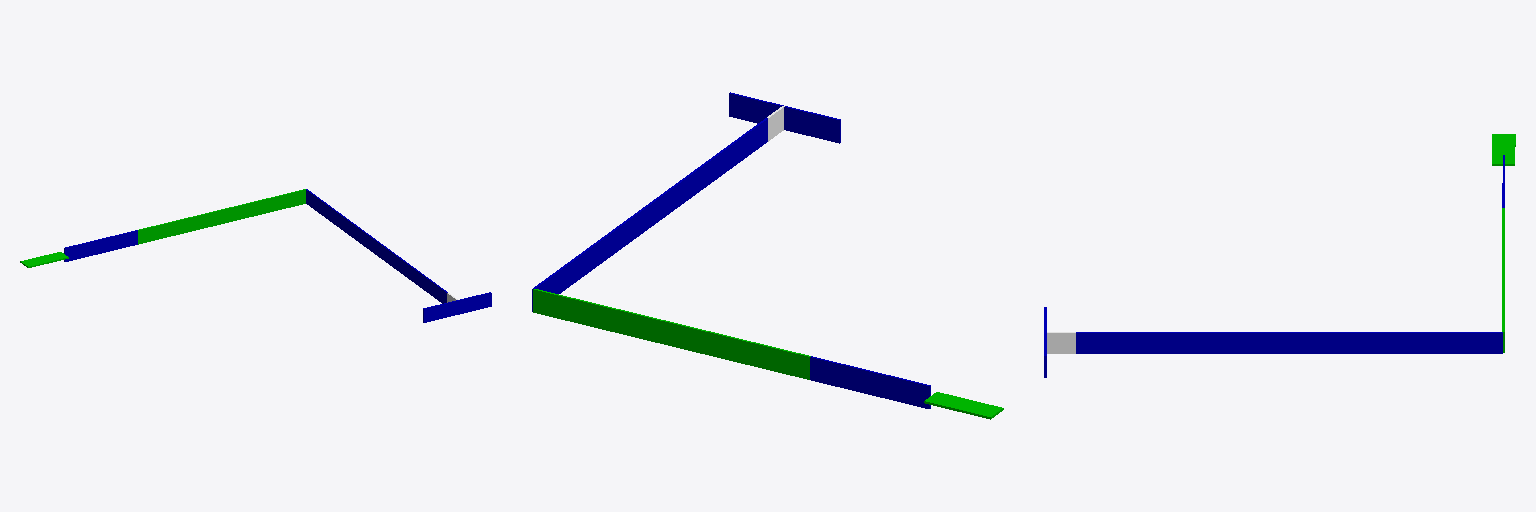
The robot description file, URDF, robot "yannic_robot":
<?xml version="1.0" ?>
<!-- =================================================================================== -->
<!-- |    This document was autogenerated by xacro from yannic_robot.urdf.xacro        | -->
<!-- |    EDITING THIS FILE BY HAND IS NOT RECOMMENDED                                 | -->
<!-- =================================================================================== -->
<robot name="yannic_robot">
  <material name="blue">
    <color rgba="0 0 0.8 1"/>
  </material>
  <material name="transparent">
    <color rgba="0 0 0 0"/>
  </material>
  <material name="green">
    <color rgba="0.0 0.8 0.0 1.0"/>
  </material>
  <material name="white">
    <color rgba="1 1 1 1"/>
  </material>
  <link name="base_link">
    <visual>
      <geometry>
        <box size="0.05 0.001  0.01"/>
      </geometry>
      <material name="blue"/>
    </visual>
    <collision>
      <geometry>
        <box size="0.05 0.001  0.01"/>
      </geometry>
    </collision>
  </link>
  <joint name="rotate_base" type="revolute">
    <axis xyz="1 0 0"/>
    <limit effort="1000.0" lower="-1.57" upper="1.57" velocity="0.5"/>
    <origin rpy="0 0 1.57" xyz="0.0005 0 0"/>
    <parent link="base_link"/>
    <child link="dummy"/>
  </joint>
  <link name="dummy">
    <visual>
      <geometry>
        <box size="0.013 0.001  0.01"/>
      </geometry>
      <material name="white"/>
      <origin rpy="0 0 0" xyz="0.0065 0 0.0"/>
    </visual>
    <collision>
      <geometry>
        <box size="0.013 0.001  0.01"/>
      </geometry>
    </collision>
    <inertial>
      <mass value="10"/>
      <inertia ixx="1.0" ixy="0.0" ixz="0.0" iyy="1.0" iyz="0.0" izz="1.0"/>
    </inertial>
  </link>
  <joint name="joint1" type="revolute">
    <axis xyz="0 0 1"/>
    <limit effort="1000.0" lower="-0.7853981633974483" upper="0.7853981633974483" velocity="0.5"/>
    <origin rpy="0 0 0" xyz="0.013 0 0"/>
    <parent link="dummy"/>
    <child link="link1"/>
  </joint>
  <link name="link1">
    <visual>
      <geometry>
        <box size="0.182 0.001  0.01"/>
      </geometry>
      <material name="blue"/>
      <origin rpy="0 0 0" xyz="0.091 0 0.0"/>
    </visual>
    <collision>
      <geometry>
        <box size="0.182 0.001  0.01"/>
      </geometry>
    </collision>
    <inertial>
      <mass value="10"/>
      <inertia ixx="1.0" ixy="0.0" ixz="0.0" iyy="1.0" iyz="0.0" izz="1.0"/>
    </inertial>
  </link>
  <joint name="joint2" type="revolute">
    <axis xyz="0 0 1"/>
    <limit effort="1000.0" lower="0.7853981633974483" upper="2.356194490192345" velocity="0.5"/>
    <origin rpy="0 0 0" xyz="0.182 0 0"/>
    <parent link="link1"/>
    <child link="link2"/>
  </joint>
  <link name="link2">
    <visual>
      <geometry>
        <box size="0.125 0.001  0.01"/>
      </geometry>
      <material name="green"/>
      <origin rpy="0 0 0" xyz="0.0625 0 0.0"/>
    </visual>
    <collision>
      <geometry>
        <box size="0.125 0.001  0.01"/>
      </geometry>
    </collision>
    <inertial>
      <mass value="10"/>
      <inertia ixx="1.0" ixy="0.0" ixz="0.0" iyy="1.0" iyz="0.0" izz="1.0"/>
    </inertial>
  </link>
  <joint name="joint3" type="revolute">
    <axis xyz="0 0 1"/>
    <limit effort="1000.0" lower="-1.5707963267948966" upper="1.5707963267948966" velocity="0.5"/>
    <origin rpy="0 0 0" xyz="0.125 0 0"/>
    <parent link="link2"/>
    <child link="link3"/>
  </joint>
  <link name="link3">
    <visual>
      <geometry>
        <box size="0.054 0.001  0.01"/>
      </geometry>
      <material name="blue"/>
      <origin rpy="0 0 0" xyz="0.027 0 0.0"/>
    </visual>
    <collision>
      <geometry>
        <box size="0.054 0.001  0.01"/>
      </geometry>
    </collision>
    <inertial>
      <mass value="10"/>
      <inertia ixx="1.0" ixy="0.0" ixz="0.0" iyy="1.0" iyz="0.0" izz="1.0"/>
    </inertial>
  </link>
  <joint name="gripper_joint" type="prismatic">
    <axis xyz="0 1 0"/>
    <limit effort="1000.0" lower="0" upper="0.03" velocity="0.5"/>
    <origin rpy="1.5707963267948966 0 0" xyz="0.054 0 0"/>
    <parent link="link3"/>
    <child link="gripper"/>
  </joint>
  <link name="gripper">
    <visual>
      <geometry>
        <box size="0.03 0.001  0.01"/>
      </geometry>
      <origin rpy="0 0 0" xyz="0.015 0 0"/>
      <material name="green"/>
    </visual>
    <collision>
      <geometry>
        <box size="0.03 0.001  0.01"/>
      </geometry>
    </collision>
    <inertial>
      <mass value="0.5"/>
      <inertia ixx="1.0" ixy="0.0" ixz="0.0" iyy="1.0" iyz="0.0" izz="1.0"/>
    </inertial>
  </link>
  <joint name="left_gripper" type="prismatic">
    <axis xyz="0 1 0"/>
    <limit effort="1000.0" lower="0" upper="0.03" velocity="0.5"/>
    <origin rpy="-1.5707963267948966 0 0" xyz="0.054 0 0"/>
    <parent link="link3"/>
    <child link="left_gripper"/>
    <mimic joint="gripper_joint" multiplier="1" offset="0"/>
  </joint>
  <link name="left_gripper">
    <visual>
      <geometry>
        <box size="0.03 0.001  0.01"/>
      </geometry>
      <origin rpy="0 0 0" xyz="0.015 0 0"/>
      <material name="green"/>
    </visual>
    <collision>
      <geometry>
        <box size="0.03 0.001  0.01"/>
      </geometry>
    </collision>
    <inertial>
      <mass value="0.5"/>
      <inertia ixx="1.0" ixy="0.0" ixz="0.0" iyy="1.0" iyz="0.0" izz="1.0"/>
    </inertial>
  </link>
</robot>

--- What the picture shows (computed from the rendered views, not written in the file) ---
Views: 3 orthographic renders of the robot side by side, from view 1: azimuth 30°, elevation 25°; view 2: azimuth 150°, elevation 25°; view 3: azimuth 270°, elevation 25°.
Model yannic_robot with 7 links and 6 joints (4 revolute, 2 prismatic), rooted at base_link, posed joints at zero except 1 at the middle of their limits (joint2 = 1.57).
Visible links, largest first — view 1: link2, link1, link3, base_link; view 2: link2, link1, link3, base_link, gripper; view 3: link1, dummy, gripper.
Link boxes in pixels (x1,y1,x2,y2): link2: (138,189,305,244); link1: (306,189,447,303); link3: (64,230,137,261); base_link: (423,292,491,322); link2: (533,289,810,379); link1: (532,118,767,311); link3: (810,356,930,408); base_link: (729,92,840,143); gripper: (924,392,1003,419); link1: (1076,332,1502,353); dummy: (1047,332,1075,353); gripper: (1492,134,1515,165).
Size in the robot's own frame: 0.2333 by 0.2007 by 0.01 metres.
Geometry: primitives only (box / cylinder / sphere), no mesh files.
